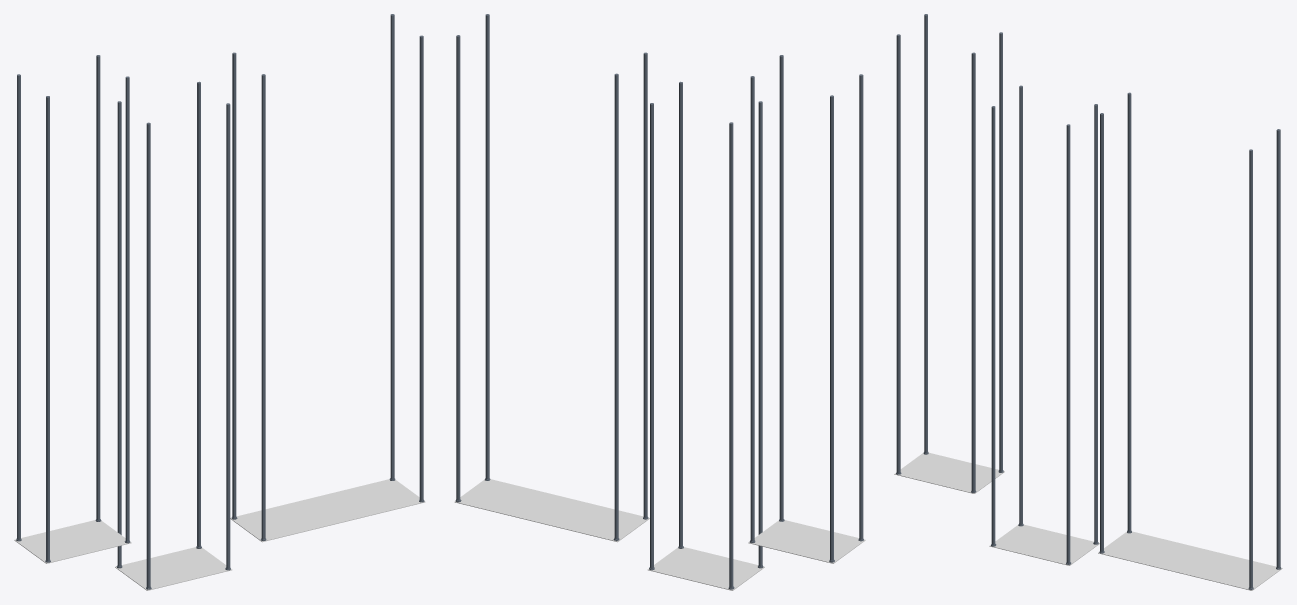
File: Level-2.fbx
3 views of the same model, side by side, from view 1: azimuth 30°, elevation 25°; view 2: azimuth 150°, elevation 25°; view 3: azimuth 330°, elevation 25° (orthographic). The views are drawn at different scales.
Parts seen in each view (by area): view 1: Cube.003, Cube.002, Cube, Cylinder.001, Cylinder.010, Cylinder.002, Cylinder.004, Cylinder.006, Cylinder.011, Cylinder.007, Cylinder.000, Cylinder.005 (+3 smaller); view 2: Cube.003, Cube.002, Cube, Cylinder.005, Cylinder.011, Cylinder.001, Cylinder.000, Cylinder.008, Cylinder.010, Cylinder.007, Cylinder.006, Cylinder.004 (+3 smaller); view 3: Cube.003, Cube.002, Cube, Cylinder.011, Cylinder.001, Cylinder.002, Cylinder.004, Cylinder.008, Cylinder.006, Cylinder.005, Cylinder.007, Cylinder.010 (+3 smaller).
Boxes of the visible parts, left/top/right/bottom form: Cube.003: left=230, top=479, right=425, bottom=542; Cube.002: left=115, top=547, right=232, bottom=590; Cube: left=14, top=520, right=131, bottom=563; Cylinder.001: left=231, top=52, right=237, bottom=519; Cylinder.010: left=419, top=35, right=424, bottom=502; Cylinder.002: left=225, top=103, right=230, bottom=570; Cylinder.004: left=146, top=122, right=151, bottom=589; Cylinder.006: left=124, top=76, right=130, bottom=543; Cylinder.011: left=389, top=14, right=395, bottom=480; Cylinder.007: left=95, top=55, right=101, bottom=521; Cylinder.000: left=260, top=74, right=266, bottom=540; Cylinder.005: left=116, top=101, right=122, bottom=568; Cube.003: left=454, top=479, right=649, bottom=542; Cube.002: left=647, top=547, right=764, bottom=590; Cube: left=748, top=520, right=865, bottom=563; Cylinder.005: left=728, top=122, right=734, bottom=589; Cylinder.011: left=455, top=35, right=461, bottom=502; Cylinder.001: left=613, top=73, right=619, bottom=540; Cylinder.000: left=643, top=52, right=648, bottom=519; Cylinder.008: left=858, top=74, right=863, bottom=541; Cylinder.010: left=484, top=14, right=490, bottom=480; Cylinder.007: left=749, top=76, right=755, bottom=542; Cylinder.006: left=779, top=55, right=784, bottom=521; Cylinder.004: left=758, top=101, right=763, bottom=568; Cube.003: left=1098, top=531, right=1282, bottom=590; Cube.002: left=989, top=524, right=1099, bottom=565; Cube: left=894, top=452, right=1004, bottom=493; Cylinder.011: left=1276, top=129, right=1281, bottom=569; Cylinder.001: left=1127, top=92, right=1131, bottom=533; Cylinder.002: left=1066, top=124, right=1071, bottom=564; Cylinder.004: left=991, top=106, right=996, bottom=546; Cylinder.008: left=896, top=34, right=901, bottom=474; Cylinder.006: left=971, top=52, right=976, bottom=492; Cylinder.005: left=1018, top=85, right=1023, bottom=526; Cylinder.007: left=998, top=32, right=1003, bottom=472; Cylinder.010: left=1248, top=149, right=1253, bottom=589.
Size of the model in its own units: 20448 by 26648 by 3017.
